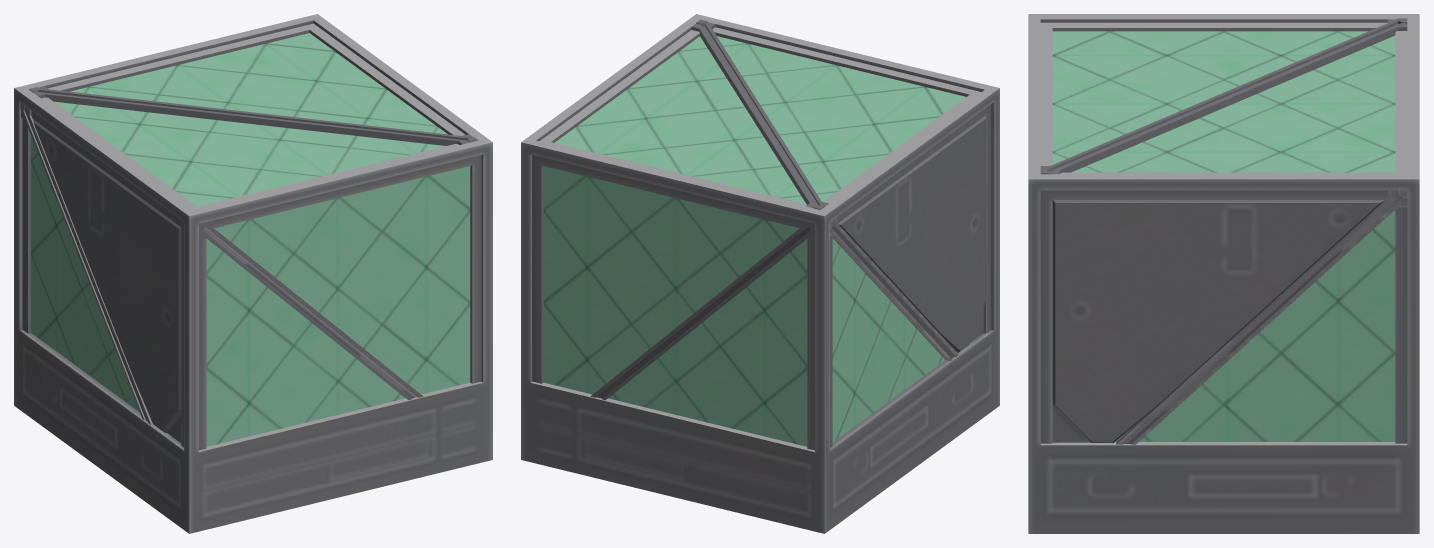
Rendered from Radianite.obj.
3 renders of one model, left to right at view 1: azimuth 30°, elevation 25°; view 2: azimuth 150°, elevation 25°; view 3: azimuth 270°, elevation 25°, orthographic. The views are drawn at different scales.
Parts seen in each view (by area): view 1: RadianiteCrate_Inside_low, RadianiteCrate_Outside_low, Metal_Rod_Half_Top_Bot_low, Metal_Rod_Front_Back_low, Metal_Rod_L_R_low; view 2: RadianiteCrate_Inside_low, RadianiteCrate_Outside_low, Metal_Rod_Front_Back_low, Metal_Rod_Half_Top_Bot_low, Metal_Rod_L_R_low; view 3: RadianiteCrate_Outside_low, RadianiteCrate_Inside_low, Metal_Rod_Half_Top_Bot_low, Metal_Rod_L_R_low.
Part boxes in pixels (bbox=[...]): RadianiteCrate_Inside_low: bbox=[31, 33, 470, 446]; RadianiteCrate_Outside_low: bbox=[14, 14, 492, 533]; Metal_Rod_Half_Top_Bot_low: bbox=[29, 86, 477, 145]; Metal_Rod_Front_Back_low: bbox=[199, 220, 423, 400]; Metal_Rod_L_R_low: bbox=[20, 103, 153, 425]; RadianiteCrate_Inside_low: bbox=[543, 36, 966, 446]; RadianiteCrate_Outside_low: bbox=[521, 14, 999, 533]; Metal_Rod_Front_Back_low: bbox=[590, 220, 814, 400]; Metal_Rod_Half_Top_Bot_low: bbox=[691, 19, 828, 209]; Metal_Rod_L_R_low: bbox=[830, 217, 958, 360]; RadianiteCrate_Outside_low: bbox=[1028, 14, 1419, 533]; RadianiteCrate_Inside_low: bbox=[1052, 31, 1395, 441]; Metal_Rod_Half_Top_Bot_low: bbox=[1040, 18, 1407, 174]; Metal_Rod_L_R_low: bbox=[1116, 190, 1407, 444].
Bounding box in the file's own units: 2 × 2.01 × 2.
Materials: 1 (1 with a texture image).
